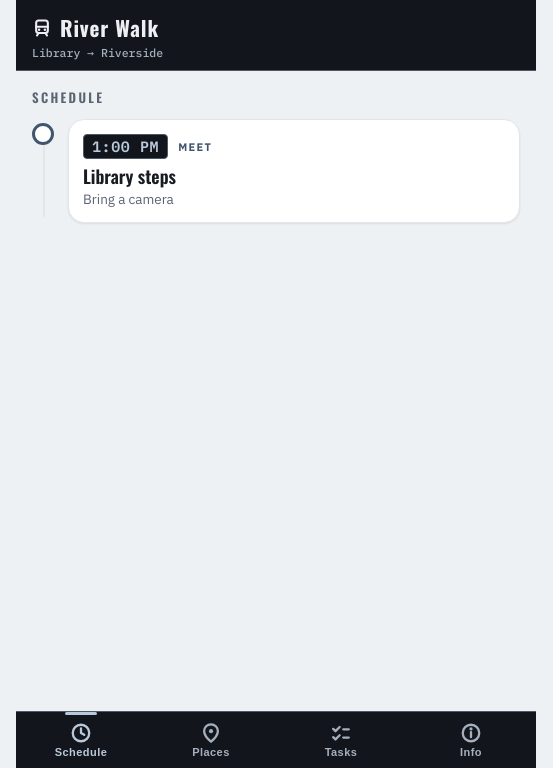
it: renders the resolved places
Expected: the element with test id "view-schedule" is shown, [32,119,520,223]
Click the button "Places".
click(211, 740)  # box [146,712,276,767]
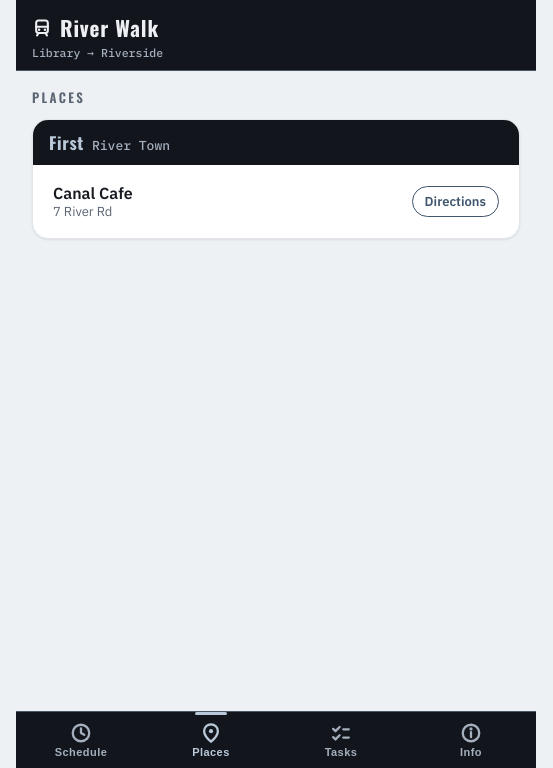
Result: the element with test id "view-places" shows "Canal Cafe" at [53,183,133,203]
Result: the text "7 River Rd" is shown at [53,203,112,220]
